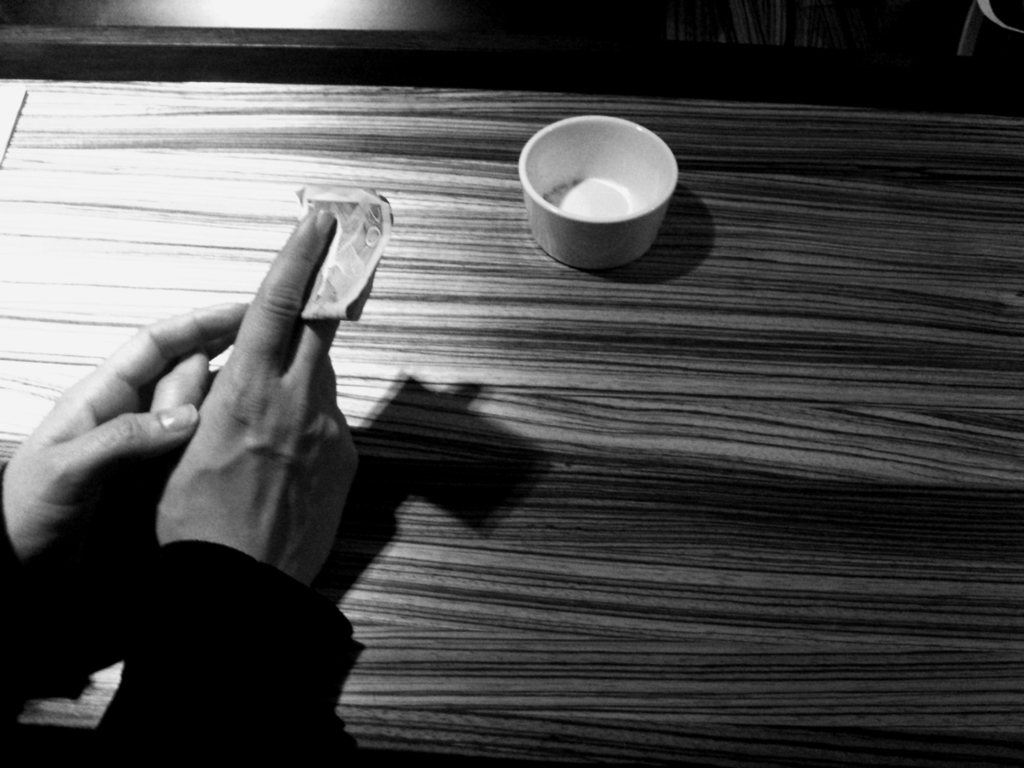Human_hand: (0, 304, 248, 622)
